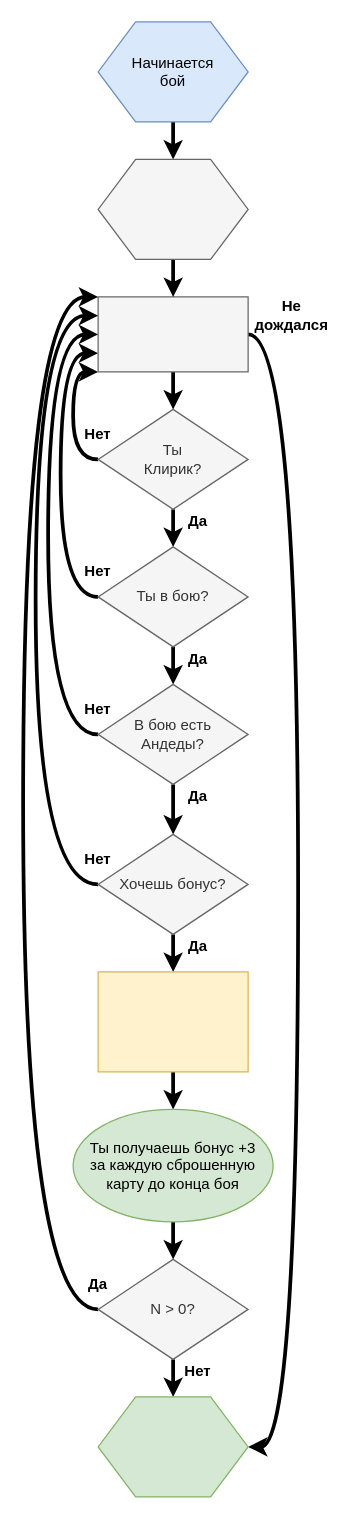
Image size: 358x1519. Some labels were removed from this diagram. Here are the shapes that lost their labels. From the top down, the centre of each, then its label:
point 172,208: N := 3 для этого боя
point 172,334: Жди подходящего момента
point 172,1021: Сбрось от 1 до N карт в уплату способности. Уменьши N на выбранное число.
point 172,1446: Конец боя
